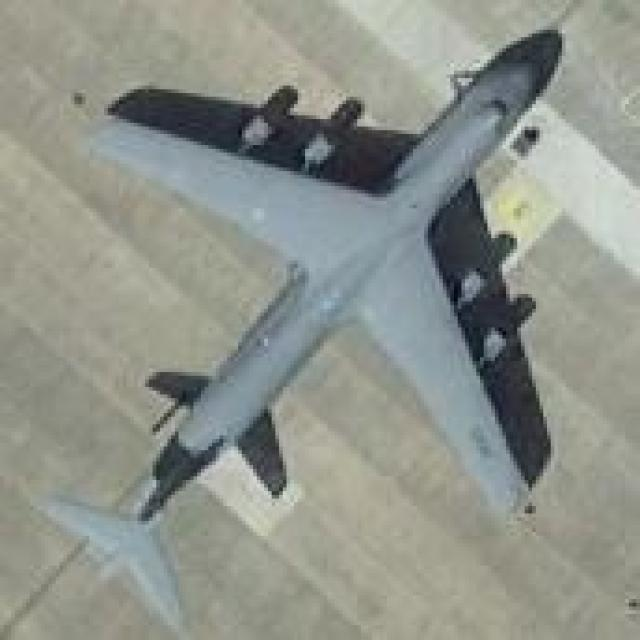C-5_TopDown: (37, 20, 554, 626)
